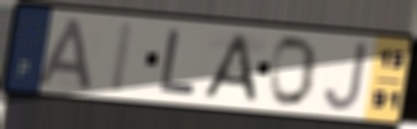A: (34, 15, 95, 92), (198, 32, 259, 105)
I: (105, 18, 138, 96)
J: (321, 39, 370, 114)
L: (157, 27, 200, 97)
O: (267, 34, 321, 109)
